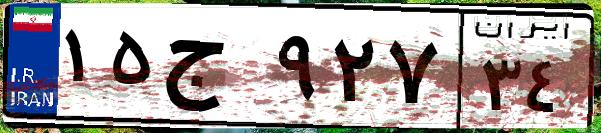1: (57, 26, 110, 100)
2: (330, 28, 385, 110)
3: (475, 38, 525, 113)
4: (525, 38, 570, 115)
5: (110, 28, 158, 98)
7: (385, 28, 445, 110)
9: (270, 28, 330, 110)
ج: (158, 20, 270, 120)
